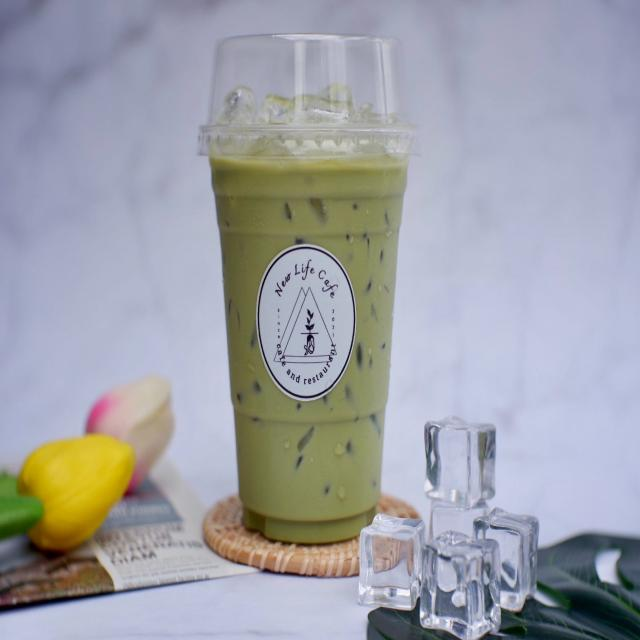cup: (197, 35, 422, 545)
